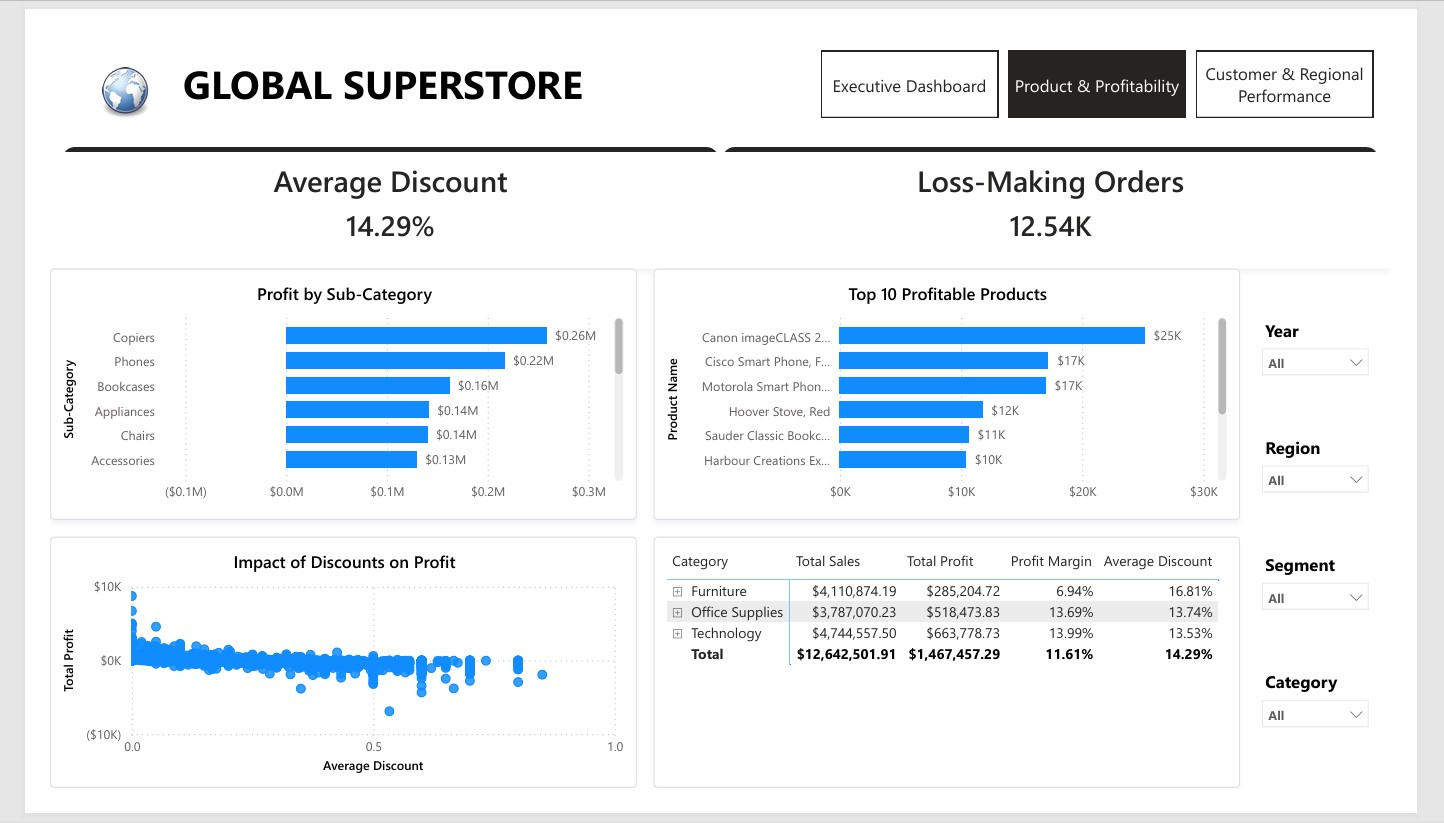

What the dashboard file says about the page in this screenshot:
{"tool":"powerbi","page":{"name":"Product & Profitability","canvas":[1280,720],"ordinal":1},"visuals":[{"type":"cardVisual","fields":{"Data":["Global Superstore.Average Discount","Global Superstore.Loss-Making Orders"]},"box":[0,96,1280,128],"z":0},{"type":"slicer","fields":{"Values":["Global_Superstore2.Order Date.Variation.Date Hierarchy.Year"]},"box":[1152,272,112,64],"z":1000},{"type":"clusteredBarChart","title":"Profit by Sub-Category","fields":{"Category":["Global Superstore.Sub-Category"],"Y":["Global Superstore.Total Profit"]},"box":[0,224,560,240],"z":2000},{"type":"textbox","box":[0,0,656,80],"z":3000},{"type":"slicer","fields":{"Values":["Global_Superstore2.Region","Global_Superstore2.Country"]},"box":[1152,384,112,64],"z":4000},{"type":"scatterChart","title":"Impact of Discounts on Profit","fields":{"Category":["Global Superstore.Order ID"],"X":["Avg(Global Superstore.Discount)"],"Y":["Sum(Global Superstore.Profit)"]},"box":[0,480,560,240],"z":5000},{"type":"clusteredBarChart","title":"Top 10 Profitable Products","fields":{"Category":["Global Superstore.Product Name"],"Y":["Global Superstore.Total Profit"]},"box":[576,224,560,240],"z":6000},{"type":"image","box":[32,32,80,48],"z":7000},{"type":"pageNavigator","box":[736,16,528,64],"z":8000},{"type":"slicer","fields":{"Values":["Global Superstore.Segment"]},"box":[1152,496,112,64],"z":9000},{"type":"slicer","fields":{"Values":["Global Superstore.Category"]},"box":[1152,608,112,64],"z":10000},{"type":"pivotTable","fields":{"Rows":["Global Superstore.Category","Global Superstore.Sub-Category"],"Values":["Global Superstore.Total Sales","Global Superstore.Total Profit","Global Superstore.Profit Margin","Global Superstore.Average Discount"]},"box":[576,480,560,240],"z":11000}]}

Visuals, with their boxes in screenshot pixels (x1, y1, x2, y2), scaled from the page's 1280x720 canvas onto the 1444x823 screenshot:
cardVisual - Global Superstore.Average Discount x Global Superstore.Loss-Making Orders: crop(0, 110, 1443, 256)
slicer - Global_Superstore2.Order Date.Variation.Date Hierarchy.Year: crop(1300, 311, 1426, 384)
"Profit by Sub-Category" clusteredBarChart: crop(0, 256, 632, 530)
textbox: crop(0, 0, 740, 91)
slicer - Global_Superstore2.Region x Global_Superstore2.Country: crop(1300, 439, 1426, 512)
"Impact of Discounts on Profit" scatterChart: crop(0, 549, 632, 822)
"Top 10 Profitable Products" clusteredBarChart: crop(650, 256, 1282, 530)
image: crop(36, 37, 126, 91)
pageNavigator: crop(830, 18, 1426, 91)
slicer - Global Superstore.Segment: crop(1300, 567, 1426, 640)
slicer - Global Superstore.Category: crop(1300, 695, 1426, 768)
pivotTable - Global Superstore.Category x Global Superstore.Sub-Category: crop(650, 549, 1282, 822)
